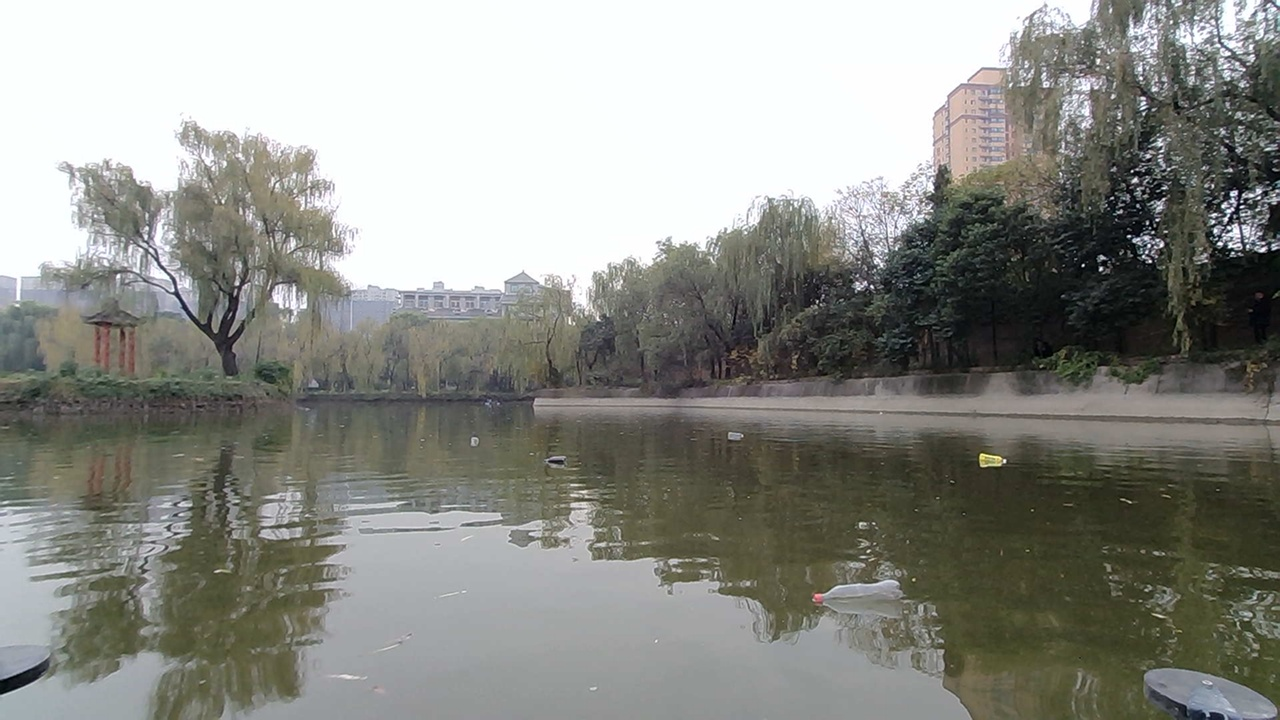bottle: (823, 554, 908, 630), (522, 431, 583, 472), (452, 420, 500, 451), (974, 442, 1007, 476), (718, 419, 755, 442)
